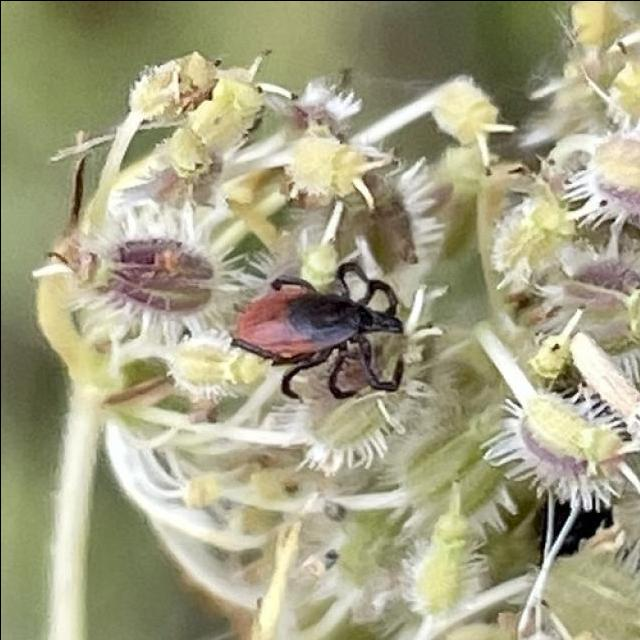Ixodes Ricinus-F: (229, 261, 406, 399)
